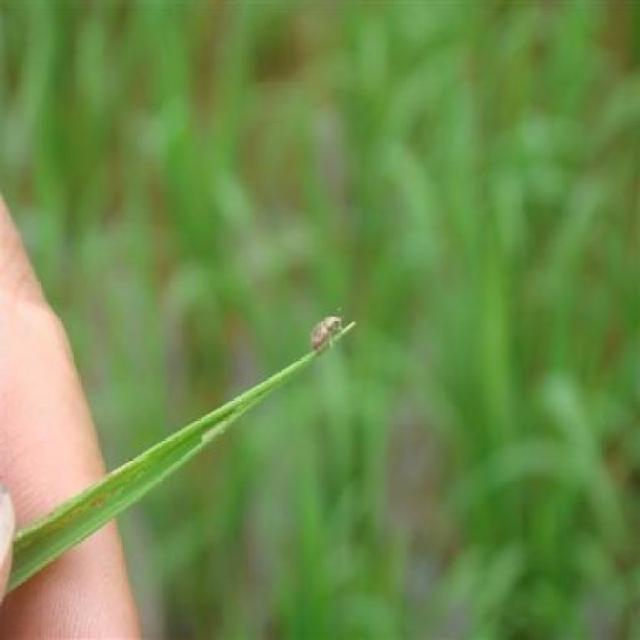rice-bug: (309, 311, 343, 357)
